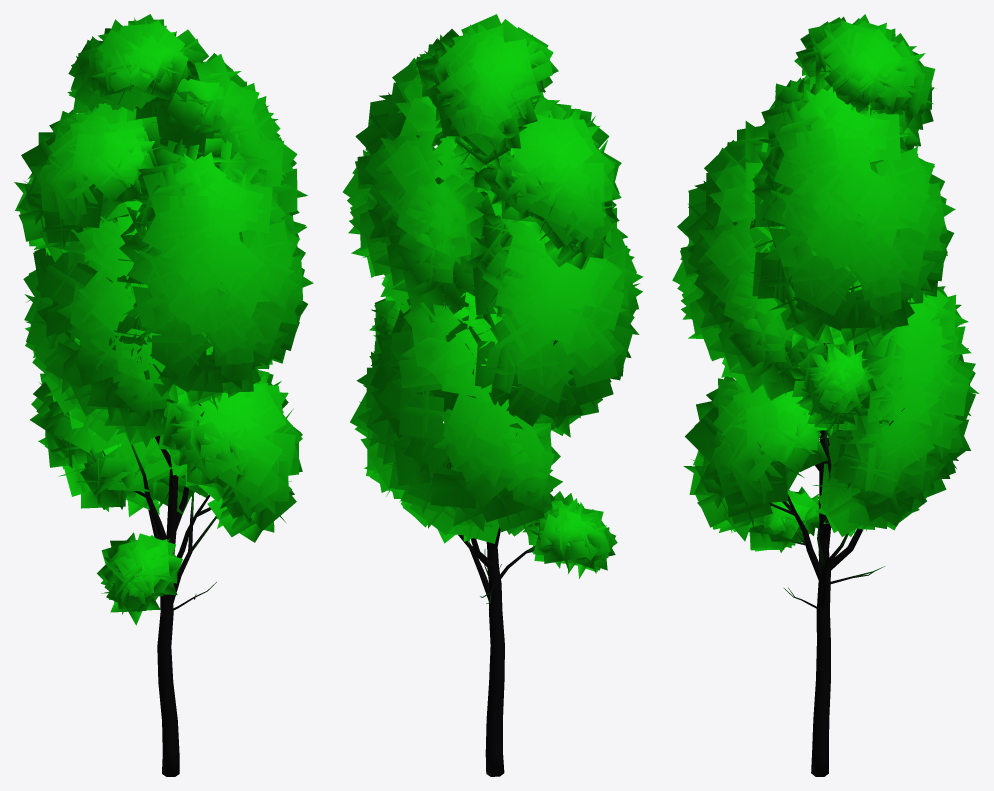
The model's file is Tree_Birch_03.fbx.
3 views of the same model, side by side, from view 1: azimuth 30°, elevation 25°; view 2: azimuth 150°, elevation 25°; view 3: azimuth 270°, elevation 25° (orthographic). The views are drawn at different scales.
Visible parts, largest first — view 1: IL3DN_Tree_Birch_03_LOD0; view 2: IL3DN_Tree_Birch_03_LOD0; view 3: IL3DN_Tree_Birch_03_LOD0.
Boxes of the visible parts, x1,y1,x2,y2 form: IL3DN_Tree_Birch_03_LOD0: [14, 14, 313, 776]; IL3DN_Tree_Birch_03_LOD0: [343, 14, 643, 776]; IL3DN_Tree_Birch_03_LOD0: [672, 14, 979, 776].
Size of what is drawn, in the model's own units: 356 by 982 by 366.
